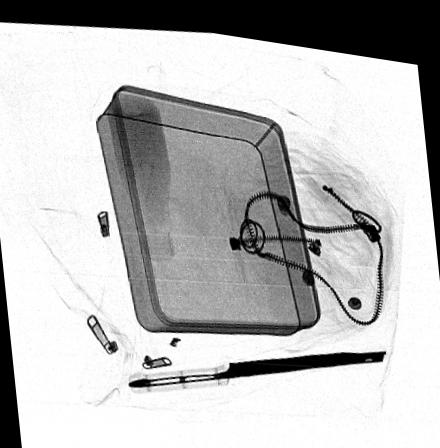Knife: (127, 338, 387, 390)
